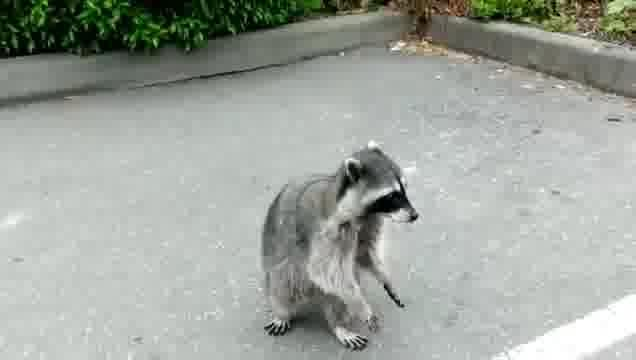raccoon: (258, 134, 423, 354)
